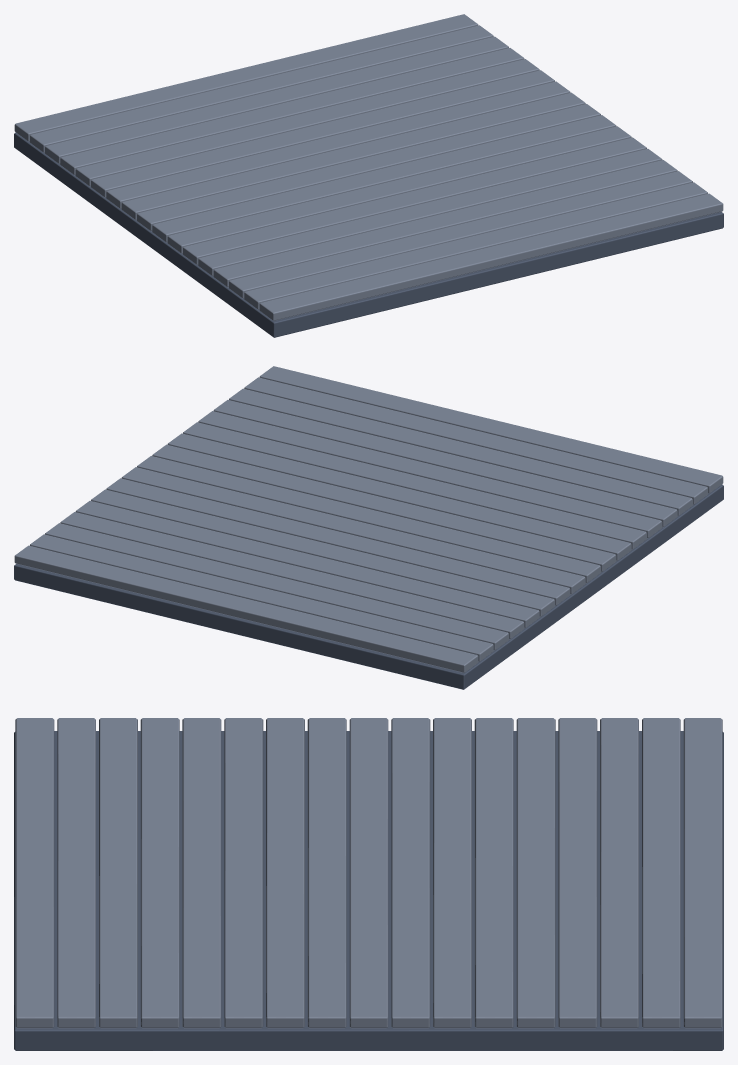
Rendered from garden-deck-lite.glb.
3 views of the same model, one above another, from view 1: azimuth 30°, elevation 25°; view 2: azimuth 150°, elevation 25°; view 3: azimuth 270°, elevation 25° (orthographic). The views are drawn at different scales.
Visible parts, largest first — view 1: garden-deck; view 2: garden-deck; view 3: garden-deck.
Part boxes in pixels (x1,y1,x2,y2): garden-deck: (14,14,723,337); garden-deck: (14,366,723,689); garden-deck: (14,718,723,1050).
Size of the model in its own units: 3 by 0.16 by 3.
